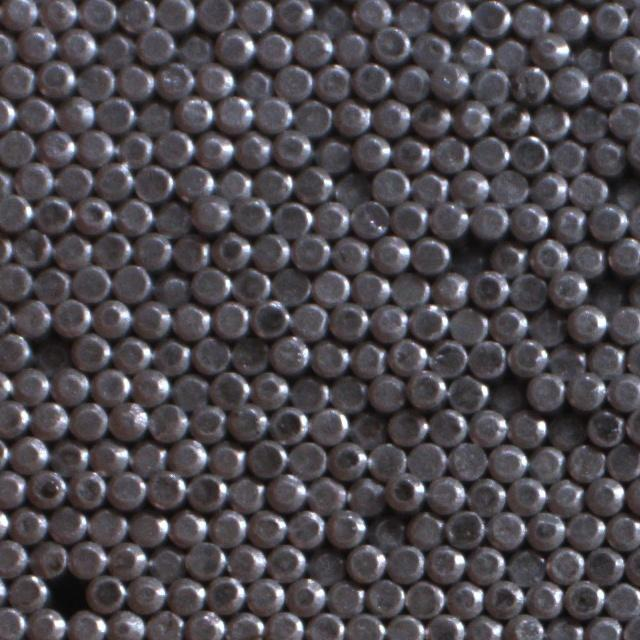tool: (26, 466, 66, 507), (430, 59, 470, 100), (386, 470, 426, 511), (470, 132, 510, 172), (466, 544, 506, 584), (446, 508, 486, 548), (47, 503, 87, 543), (14, 158, 54, 198), (448, 372, 488, 412), (406, 368, 446, 408), (85, 572, 125, 612), (184, 538, 224, 578), (524, 578, 564, 618), (565, 369, 605, 409), (508, 270, 548, 310), (409, 300, 449, 340), (146, 468, 185, 508), (468, 407, 508, 446), (88, 506, 127, 546), (347, 541, 386, 581), (449, 304, 488, 344), (270, 333, 310, 372), (189, 402, 228, 442), (112, 261, 151, 301), (67, 538, 106, 578), (410, 235, 450, 274), (267, 470, 306, 510), (428, 406, 467, 446), (246, 438, 286, 477), (288, 438, 327, 478), (246, 574, 285, 614), (372, 24, 411, 64), (68, 468, 107, 508), (585, 407, 625, 446), (186, 470, 225, 510), (371, 96, 410, 136), (92, 228, 132, 267), (190, 192, 230, 231), (366, 576, 405, 616), (148, 401, 188, 440), (12, 228, 51, 268), (36, 58, 75, 98), (91, 296, 130, 336), (106, 539, 146, 578), (51, 295, 90, 335), (231, 194, 271, 233), (426, 473, 466, 512), (33, 192, 72, 232), (485, 578, 524, 618), (230, 335, 269, 375), (489, 166, 528, 206), (367, 370, 406, 410), (468, 338, 508, 377), (107, 468, 146, 508), (565, 577, 604, 617), (466, 475, 506, 514), (211, 297, 250, 337), (29, 538, 68, 578), (7, 571, 47, 610), (508, 201, 548, 240), (404, 579, 444, 618), (585, 545, 625, 584), (345, 475, 385, 514), (268, 404, 307, 444), (328, 440, 367, 480), (232, 265, 272, 304), (368, 440, 407, 480), (210, 368, 250, 407), (168, 507, 207, 546), (251, 231, 290, 270), (567, 303, 606, 342), (12, 363, 51, 402), (214, 26, 253, 65), (370, 233, 409, 272), (97, 93, 136, 132), (565, 509, 604, 548), (293, 163, 332, 202), (9, 433, 48, 472), (211, 230, 250, 269), (569, 103, 608, 142), (310, 267, 349, 306), (267, 541, 306, 580), (136, 25, 175, 64), (271, 266, 310, 305), (548, 267, 587, 306), (566, 442, 605, 481), (194, 129, 233, 168), (388, 336, 427, 375), (214, 92, 253, 131), (12, 296, 51, 335), (392, 62, 431, 101), (487, 509, 526, 548), (133, 162, 172, 201), (588, 201, 627, 240), (30, 399, 69, 438), (387, 407, 426, 446), (309, 405, 348, 444), (511, 134, 550, 173), (469, 268, 508, 307), (132, 299, 171, 338), (589, 66, 628, 105), (128, 437, 167, 476), (74, 194, 113, 233), (109, 400, 148, 439), (273, 198, 312, 237), (306, 475, 345, 514), (250, 299, 289, 338), (369, 300, 408, 339), (54, 160, 93, 199), (586, 340, 625, 379), (411, 98, 450, 137), (429, 337, 468, 376), (352, 59, 390, 99), (190, 264, 230, 302), (325, 508, 365, 546), (168, 436, 208, 474), (544, 544, 584, 582), (472, 64, 510, 104), (512, 63, 550, 103), (128, 508, 166, 548), (329, 301, 367, 341), (584, 474, 622, 514), (51, 364, 89, 404), (18, 22, 56, 62), (408, 439, 446, 479), (207, 438, 245, 478), (227, 540, 265, 580), (77, 60, 115, 100), (171, 231, 210, 269), (426, 543, 464, 582), (72, 331, 110, 370), (92, 365, 130, 404), (550, 64, 588, 103), (192, 334, 231, 372), (526, 509, 564, 548), (254, 93, 292, 132), (174, 162, 212, 201), (292, 230, 331, 268), (208, 508, 247, 546), (451, 166, 489, 205), (313, 61, 351, 100), (251, 369, 289, 408), (254, 29, 292, 68), (488, 442, 526, 481), (294, 27, 332, 66), (391, 134, 430, 172), (127, 572, 165, 611), (449, 439, 487, 478), (16, 93, 55, 131), (37, 126, 76, 164), (112, 333, 151, 371), (431, 133, 469, 172), (195, 59, 233, 98), (133, 230, 172, 268), (310, 337, 348, 376), (94, 160, 132, 199), (526, 371, 564, 410), (528, 236, 567, 274), (76, 127, 114, 166), (69, 400, 108, 438), (286, 508, 324, 547), (329, 372, 367, 411), (530, 168, 568, 207), (550, 202, 588, 241), (52, 231, 91, 269), (488, 304, 527, 342), (386, 542, 424, 581), (254, 163, 292, 202), (294, 96, 332, 135), (452, 98, 491, 136), (530, 102, 569, 140), (58, 26, 96, 65), (208, 573, 246, 612), (508, 336, 546, 375), (166, 575, 205, 613), (8, 504, 46, 543), (350, 198, 388, 237), (507, 474, 545, 513), (228, 402, 266, 441), (115, 128, 154, 166), (389, 198, 428, 236), (56, 93, 94, 132), (347, 407, 386, 445), (286, 576, 325, 614), (332, 97, 370, 136), (154, 128, 192, 167), (588, 136, 627, 174), (470, 199, 508, 238), (444, 578, 483, 616), (568, 170, 607, 208), (429, 199, 467, 238), (89, 437, 128, 475), (234, 64, 273, 102), (152, 335, 190, 374), (546, 411, 584, 450), (50, 436, 88, 475), (31, 264, 70, 302), (306, 545, 344, 584), (488, 240, 527, 278), (491, 100, 530, 138), (547, 342, 586, 380), (449, 238, 488, 276), (47, 572, 86, 610), (412, 31, 452, 68), (248, 508, 286, 546), (273, 128, 311, 166), (96, 28, 134, 66), (175, 92, 213, 130), (274, 62, 312, 100), (351, 268, 389, 306), (72, 262, 110, 300), (314, 134, 352, 172), (228, 473, 266, 511), (549, 136, 587, 174), (348, 338, 386, 376), (507, 409, 545, 447), (526, 306, 564, 344), (116, 61, 154, 99), (406, 509, 444, 547), (290, 300, 328, 338), (156, 60, 194, 98), (234, 130, 272, 168), (132, 366, 170, 404), (115, 195, 153, 233), (454, 32, 492, 70), (569, 238, 607, 276), (175, 29, 213, 67), (326, 578, 364, 616), (531, 29, 569, 67), (171, 301, 209, 339), (512, 0, 550, 38), (135, 97, 173, 135), (332, 28, 370, 66), (390, 270, 428, 308), (152, 268, 190, 306), (410, 167, 448, 205), (590, 0, 628, 38), (546, 475, 584, 513), (331, 169, 369, 207), (506, 548, 544, 586), (290, 373, 328, 411), (368, 512, 406, 550), (31, 334, 69, 372), (372, 164, 409, 203), (331, 234, 368, 273), (313, 198, 350, 237), (472, 0, 511, 37), (431, 268, 468, 306), (352, 131, 389, 169), (215, 165, 252, 203), (551, 1, 589, 38), (172, 371, 210, 408), (146, 543, 183, 581), (492, 35, 530, 72), (488, 376, 525, 414), (392, 0, 432, 35), (607, 234, 640, 276), (153, 198, 190, 235), (528, 444, 564, 482), (569, 39, 607, 75), (589, 276, 627, 312), (0, 58, 35, 97), (0, 127, 35, 166), (605, 581, 640, 620), (26, 605, 65, 640), (606, 511, 640, 551), (606, 440, 640, 480), (314, 0, 351, 36), (432, 0, 471, 34), (607, 370, 640, 410), (607, 304, 640, 343), (0, 190, 32, 230), (67, 608, 106, 640), (608, 33, 640, 72), (608, 100, 640, 139), (106, 609, 146, 640), (146, 608, 184, 640), (274, 0, 313, 31), (351, 0, 390, 31), (196, 0, 235, 31), (0, 260, 31, 299), (236, 0, 273, 32), (266, 609, 304, 640), (78, 0, 116, 31), (186, 609, 224, 640), (116, 0, 154, 31), (225, 610, 264, 640), (0, 330, 30, 369), (305, 610, 344, 640), (346, 610, 384, 640), (155, 0, 193, 30), (0, 0, 38, 30), (0, 396, 29, 435), (386, 611, 425, 640), (39, 0, 78, 29), (504, 612, 544, 640), (0, 536, 27, 576), (610, 174, 640, 210), (426, 612, 464, 640), (465, 613, 504, 640), (0, 468, 26, 507), (584, 614, 622, 640), (545, 615, 584, 640), (0, 604, 25, 640), (0, 28, 16, 66)
